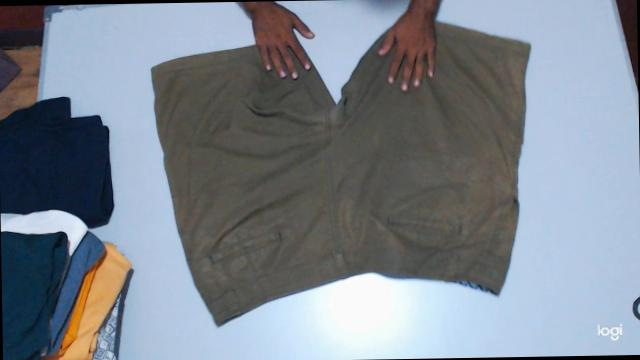new-garment: (152, 22, 530, 324)
